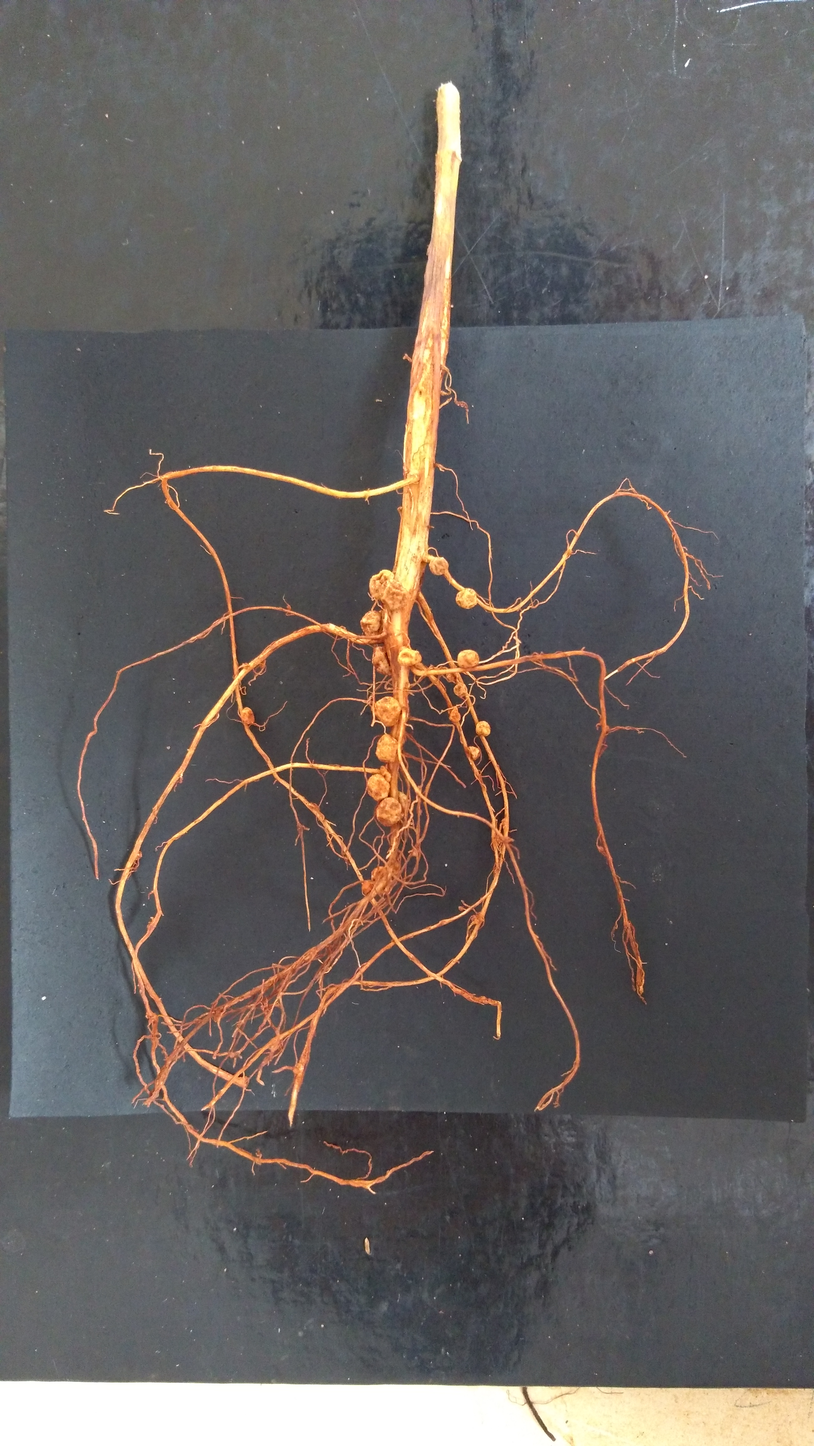nodule: (380, 578, 411, 611), (373, 696, 401, 727), (369, 569, 395, 601), (375, 797, 401, 827), (366, 774, 390, 801), (375, 734, 398, 762), (360, 610, 382, 637), (371, 866, 391, 895), (372, 647, 391, 676), (455, 588, 477, 609), (397, 648, 422, 666), (458, 650, 479, 668), (429, 557, 449, 575), (361, 880, 373, 900), (240, 707, 254, 724), (453, 682, 468, 697), (475, 721, 490, 736), (397, 790, 408, 810), (448, 706, 460, 722), (380, 765, 391, 782), (407, 470, 420, 484), (468, 746, 480, 761), (269, 1036, 280, 1050), (293, 1063, 304, 1075), (240, 1076, 249, 1088), (446, 673, 456, 681), (135, 851, 142, 860), (308, 803, 318, 808), (471, 915, 478, 921), (412, 849, 417, 857), (501, 818, 505, 828), (230, 1052, 235, 1059), (243, 663, 248, 670), (178, 777, 183, 783), (458, 906, 463, 911), (286, 605, 291, 610), (340, 626, 346, 630)
